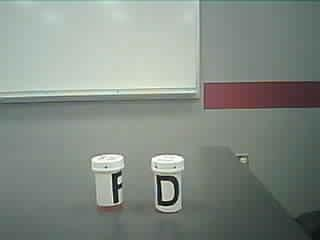Bottle D: (148, 152, 190, 219)
Bottle F: (88, 153, 131, 215)
